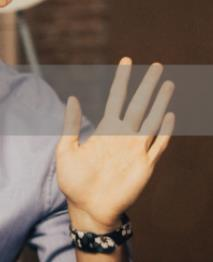down: (52, 53, 177, 222)
